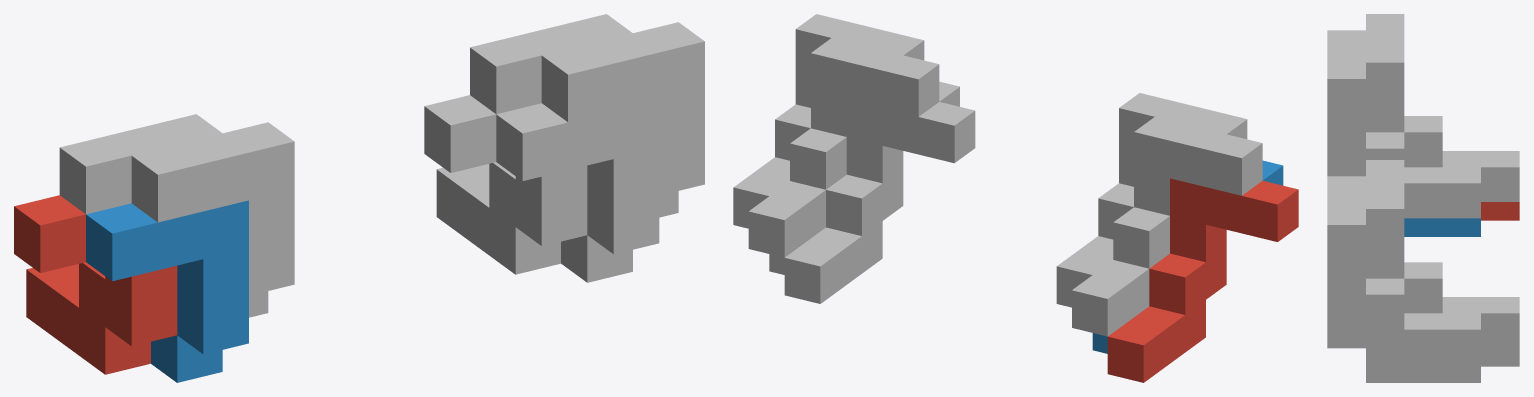
Rendered from tiling.obj.
3 renders of one model, left to right at view 1: azimuth 30°, elevation 25°; view 2: azimuth 150°, elevation 25°; view 3: azimuth 270°, elevation 25°, orthographic. The views are drawn at different scales.
Visible parts, largest first — view 1: copy_1_domain_6, copy_1_domain_2, copy_1_domain_5, copy_1_domain_1, copy_1_domain_4, copy_1_domain_8, copy_1_domain_3, copy_1_domain_7; view 2: copy_1_domain_5, copy_1_domain_1, copy_1_domain_7, copy_1_domain_3, copy_1_domain_8, copy_1_domain_4, copy_1_domain_2, copy_1_domain_6; view 3: copy_1_domain_8, copy_1_domain_4, copy_1_domain_7, copy_1_domain_3, copy_1_domain_6, copy_1_domain_2, copy_1_domain_1, copy_1_domain_5.
Part boxes in pixels (left/top/right/bottom): copy_1_domain_6: left=496, top=100, right=659, bottom=282; copy_1_domain_2: left=86, top=200, right=248, bottom=382; copy_1_domain_5: left=424, top=95, right=587, bottom=274; copy_1_domain_1: left=14, top=195, right=177, bottom=374; copy_1_domain_4: left=131, top=122, right=294, bottom=317; copy_1_domain_8: left=541, top=22, right=704, bottom=217; copy_1_domain_3: left=59, top=114, right=222, bottom=214; copy_1_domain_7: left=470, top=14, right=632, bottom=114; copy_1_domain_5: left=784, top=99, right=975, bottom=303; copy_1_domain_1: left=1107, top=178, right=1298, bottom=382; copy_1_domain_7: left=748, top=38, right=939, bottom=257; copy_1_domain_3: left=1072, top=117, right=1262, bottom=336; copy_1_domain_8: left=733, top=14, right=924, bottom=228; copy_1_domain_4: left=1056, top=93, right=1247, bottom=307; copy_1_domain_2: left=1092, top=160, right=1283, bottom=353; copy_1_domain_6: left=769, top=81, right=959, bottom=274; copy_1_domain_8: left=1327, top=176, right=1480, bottom=364; copy_1_domain_4: left=1327, top=30, right=1480, bottom=218; copy_1_domain_7: left=1366, top=160, right=1519, bottom=348; copy_1_domain_3: left=1366, top=14, right=1519, bottom=201; copy_1_domain_6: left=1327, top=329, right=1480, bottom=382; copy_1_domain_2: left=1404, top=218, right=1480, bottom=236; copy_1_domain_1: left=1481, top=202, right=1519, bottom=220; copy_1_domain_5: left=1481, top=348, right=1519, bottom=366.
Size of the model in its own units: 14 by 5 by 5.
